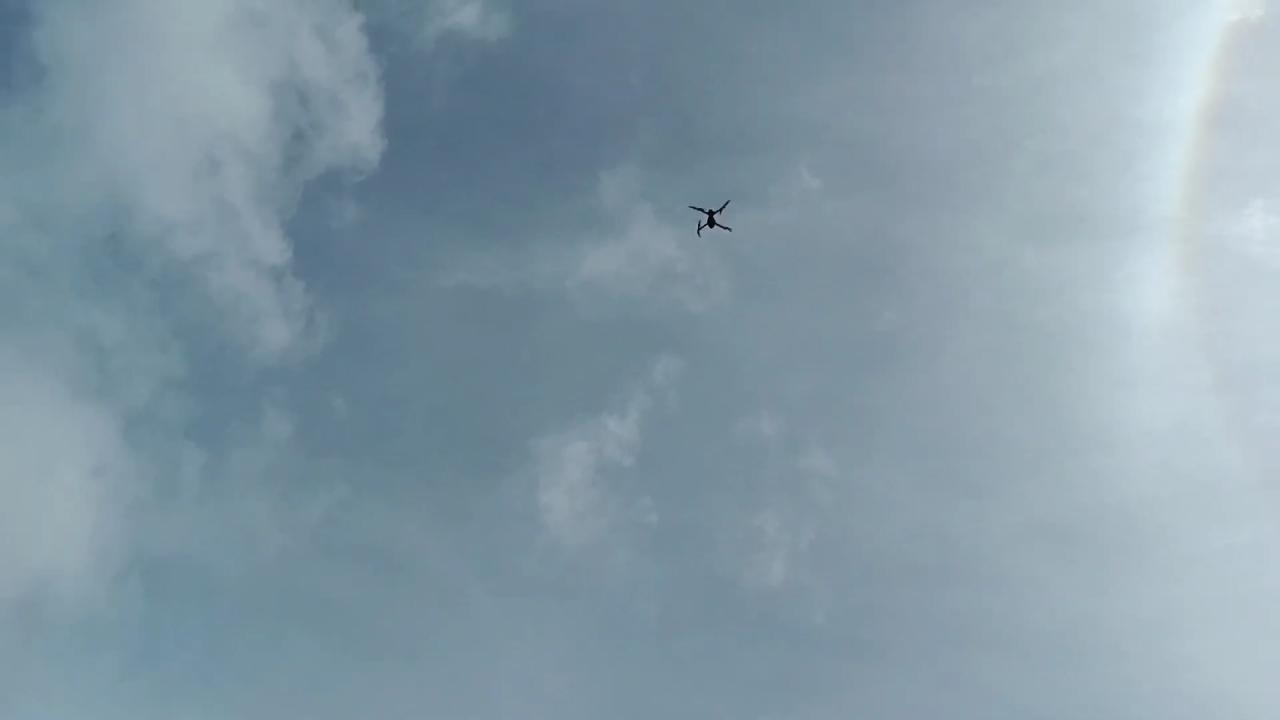Drone: (681, 192, 742, 243)
